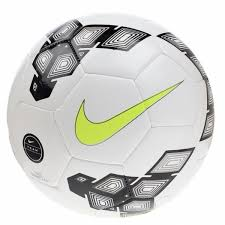top: (6, 10, 216, 221)
